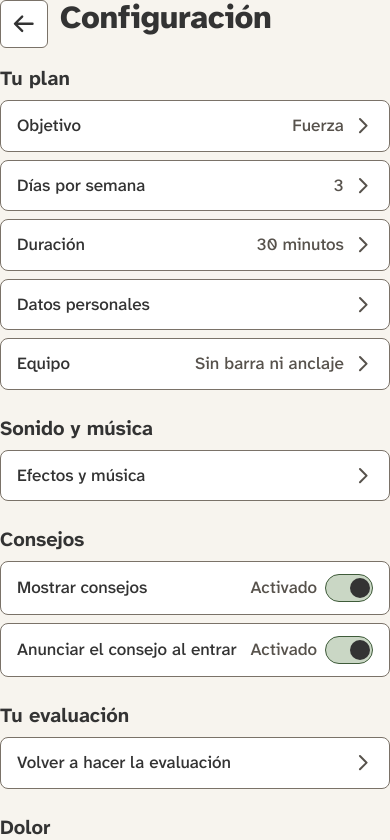
Test: Indice de configuracion › elegir 45 minutos aplica, cierra y devuelve el foco a su fila
Step 1. Click the button with class "fila-configuracion" showing "Duración 30 minutos" → (51, 244), box [0,219,389,270]
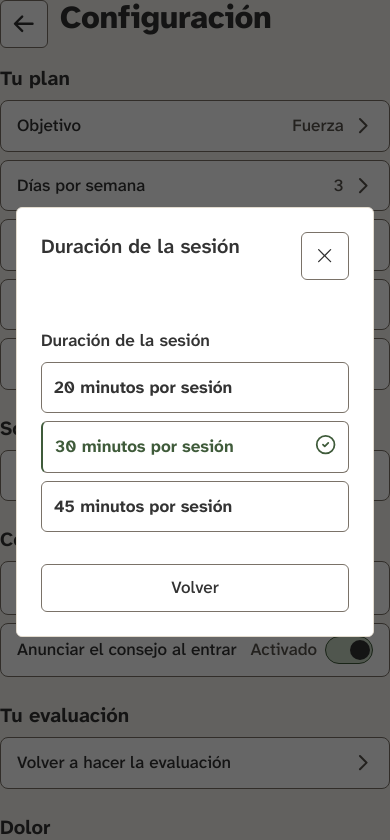
Step 2. Click the radio button labelled "45 minutos por sesión" → (195, 506), box [41,480,349,532]
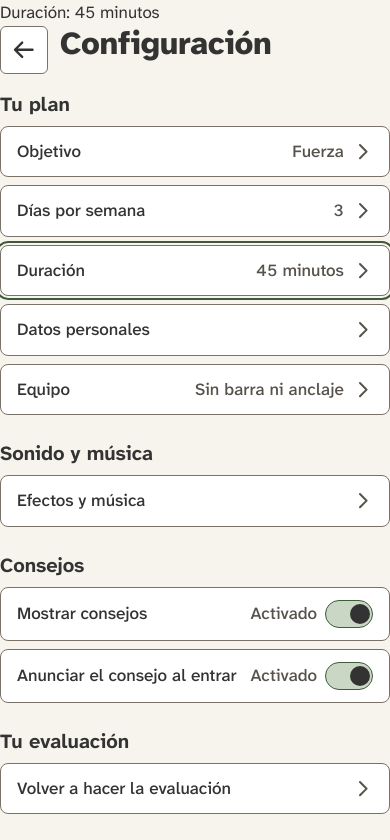
Expected: the dialog is gone
